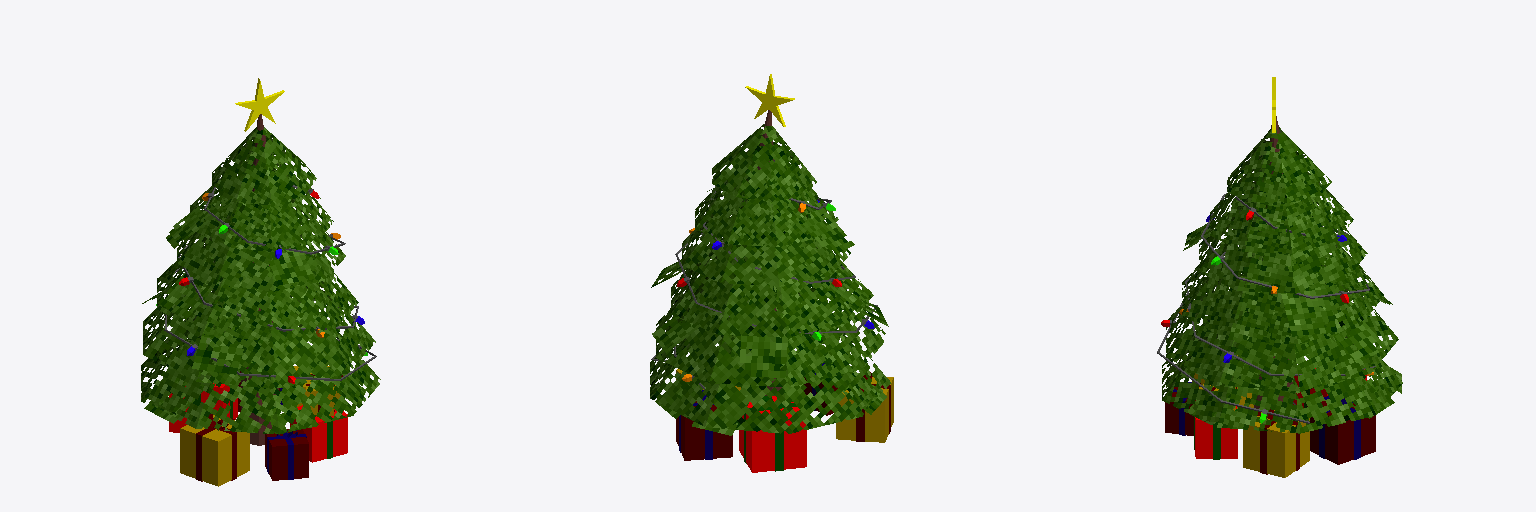
3 views of the same model, side by side, from view 1: azimuth 30°, elevation 25°; view 2: azimuth 150°, elevation 25°; view 3: azimuth 270°, elevation 25° (orthographic).
Visible parts, largest first — view 1: Tree_Cone.006, StarOn_Star.002; view 2: Tree_Cone.006, StarOn_Star.002; view 3: Tree_Cone.006.
Boxes of the visible parts, box(x1,y1,x2,y2) form: Tree_Cone.006: box(141, 114, 380, 486); StarOn_Star.002: box(235, 78, 284, 131); Tree_Cone.006: box(650, 110, 893, 472); StarOn_Star.002: box(745, 74, 794, 126); Tree_Cone.006: box(1157, 116, 1402, 477).
Size of the model in its own units: 2.49 by 3.98 by 2.48.
Materials: 2 (1 with a texture image).